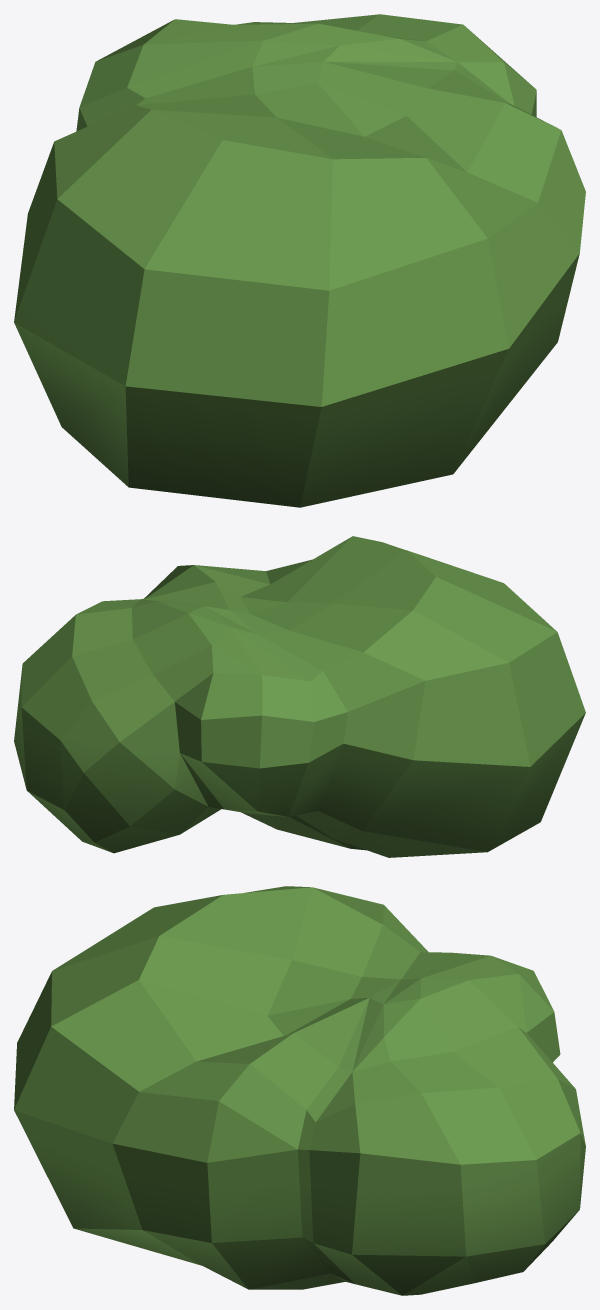
File: Oak-Bush-03.fbx
The picture shows the model from 3 angles, top to bottom: view 1: azimuth 30°, elevation 25°; view 2: azimuth 150°, elevation 25°; view 3: azimuth 270°, elevation 25°; orthographic projection. The views are drawn at different scales.
Visible parts, largest first — view 1: Oak-Bush-03; view 2: Oak-Bush-03; view 3: Oak-Bush-03.
Part boxes in pixels (x1,y1,x2,y2): Oak-Bush-03: [14, 14, 585, 507]; Oak-Bush-03: [14, 536, 585, 857]; Oak-Bush-03: [14, 886, 585, 1295].
Size of the model in its own units: 838 by 480 by 822.
Materials: 1 (1 with a texture image).
